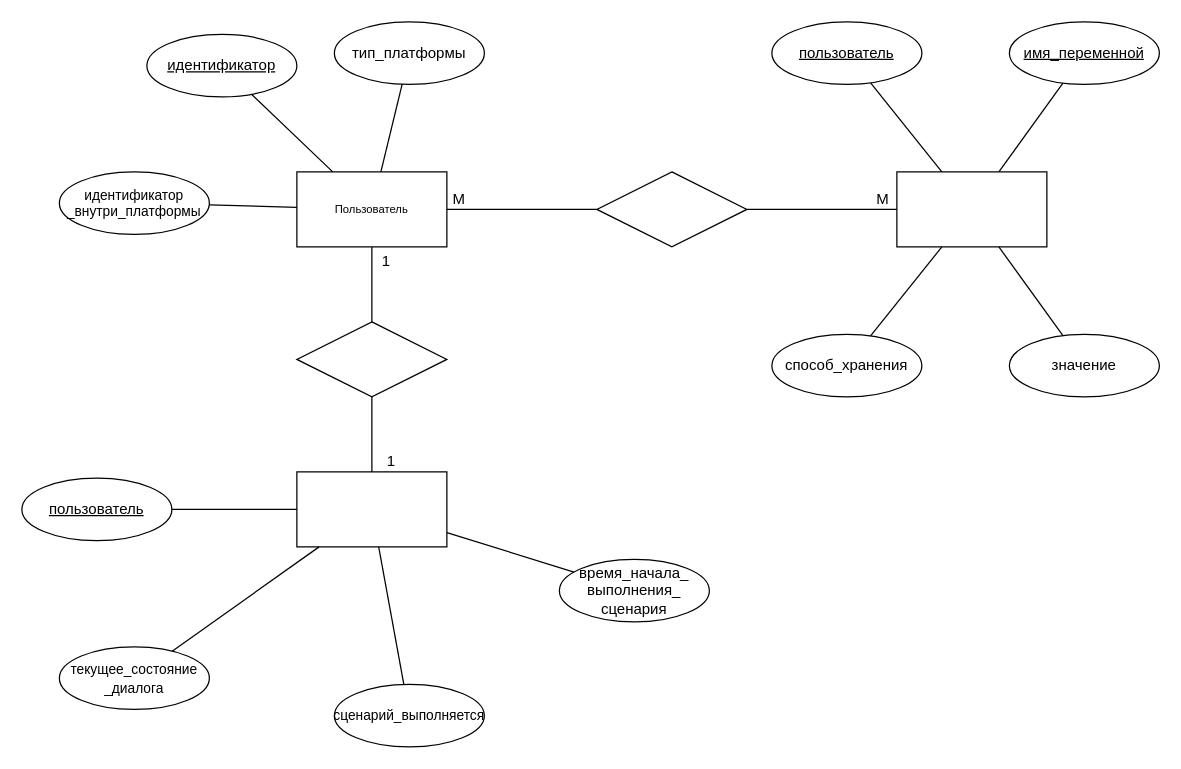
Image size: 1181x769. Some labels were removed from this diagram. The box of each missing label's shape, as (x1, y1, x2, y2) in pixels:
владеет: (296, 321, 447, 397)
имеет: (596, 171, 747, 247)
Контекст выполнения: (296, 471, 447, 547)
Переменные диалога: (896, 171, 1047, 247)
